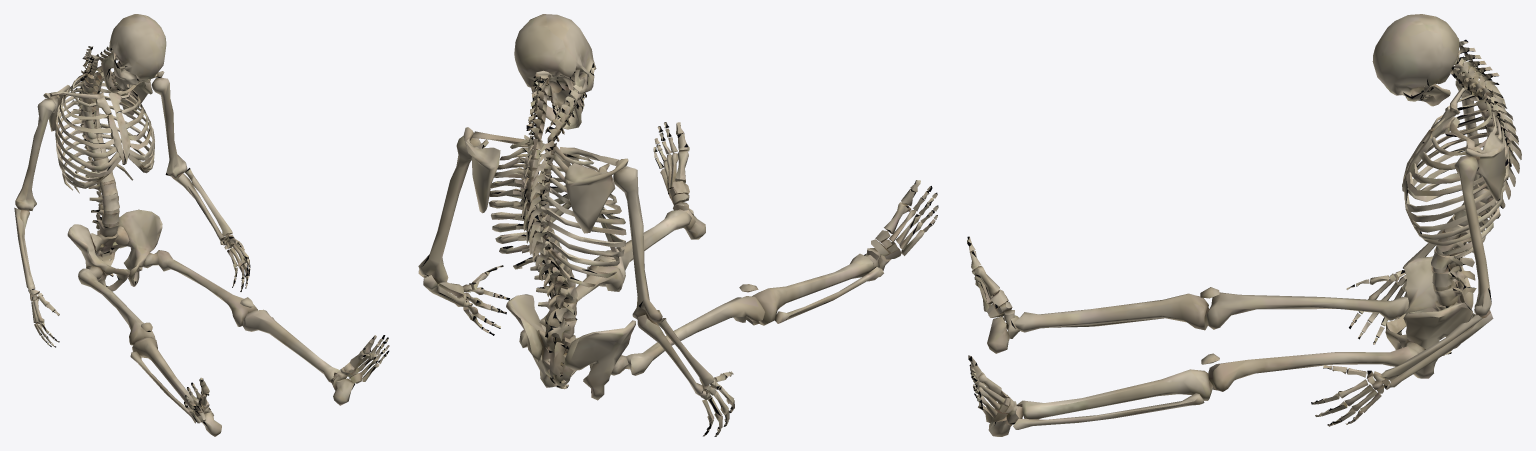
Rendered from skeleton_sit.glb.
The picture shows the model from 3 angles, left to right: view 1: azimuth 30°, elevation 25°; view 2: azimuth 150°, elevation 25°; view 3: azimuth 270°, elevation 25°; orthographic projection. The views are drawn at different scales.
Visible parts, largest first — view 1: skeleton_sit; view 2: skeleton_sit; view 3: skeleton_sit.
Boxes of the visible parts, x1,y1,x2,y2 form: skeleton_sit: (14, 14, 389, 436); skeleton_sit: (418, 14, 938, 436); skeleton_sit: (967, 14, 1521, 436).
Size of the model in its own units: 0.6752 by 0.9146 by 1.16.
Materials: 1 (1 with a texture image).
